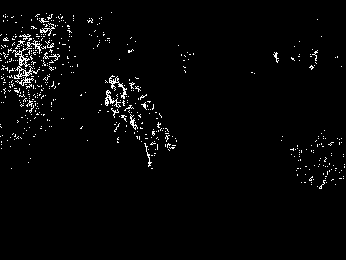person: (138, 99, 177, 169), (101, 77, 126, 142), (125, 76, 147, 141)
